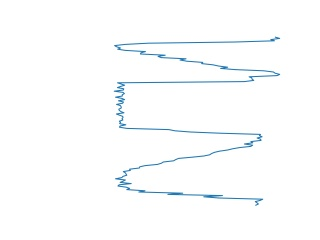distributaryChannelFill: (110, 71, 265, 142)
mouthBar: (112, 34, 283, 79)
underwaterDistributaryChannel: (112, 139, 264, 208)
